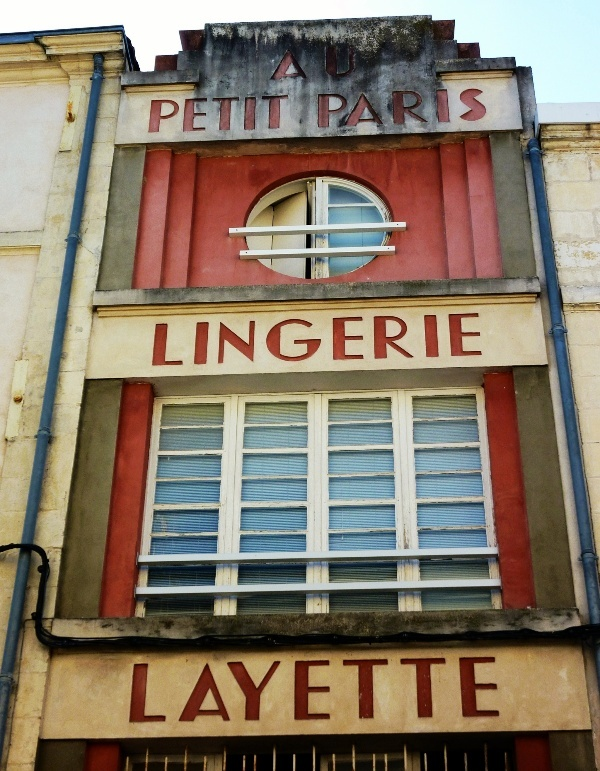text: (145, 655, 160, 723), (161, 655, 176, 723), (177, 655, 192, 723), (193, 655, 208, 723), (209, 655, 224, 723), (225, 655, 240, 723), (241, 655, 256, 723), (257, 655, 272, 723), (273, 655, 288, 723), (289, 655, 304, 723), (305, 655, 320, 723), (321, 655, 336, 723), (337, 655, 352, 723), (353, 655, 368, 723), (369, 655, 384, 723), (385, 655, 400, 723), (401, 655, 416, 723), (417, 655, 432, 723), (433, 655, 448, 723), (449, 655, 464, 723), (465, 655, 480, 723), (481, 655, 496, 723), (131, 655, 144, 723), (161, 313, 176, 367), (177, 313, 192, 367), (193, 313, 208, 367), (209, 313, 224, 367), (225, 313, 240, 367), (241, 313, 256, 367), (257, 313, 272, 367), (273, 313, 288, 367), (289, 313, 304, 367), (305, 313, 320, 367), (321, 313, 336, 367), (337, 313, 352, 367), (353, 313, 368, 367), (369, 313, 384, 367), (385, 313, 400, 367), (401, 313, 416, 367), (417, 313, 432, 367), (433, 313, 448, 367), (449, 313, 464, 367), (465, 313, 480, 367), (289, 42, 304, 84), (305, 42, 320, 84), (321, 42, 336, 84), (337, 42, 352, 84), (161, 94, 176, 135), (177, 94, 192, 135), (193, 94, 208, 135), (209, 94, 224, 135), (225, 94, 240, 135), (241, 94, 256, 135), (257, 94, 272, 135), (273, 94, 288, 135), (321, 88, 336, 129), (337, 88, 352, 129), (353, 88, 368, 129), (369, 88, 384, 129), (385, 88, 400, 129), (401, 88, 416, 129), (417, 88, 432, 129), (433, 88, 448, 129), (449, 88, 464, 129), (465, 88, 480, 129), (275, 42, 288, 84), (151, 94, 160, 135), (481, 88, 489, 129), (497, 655, 501, 723), (155, 313, 160, 367), (353, 42, 358, 84), (316, 88, 320, 129), (481, 313, 484, 367), (289, 94, 291, 135)
